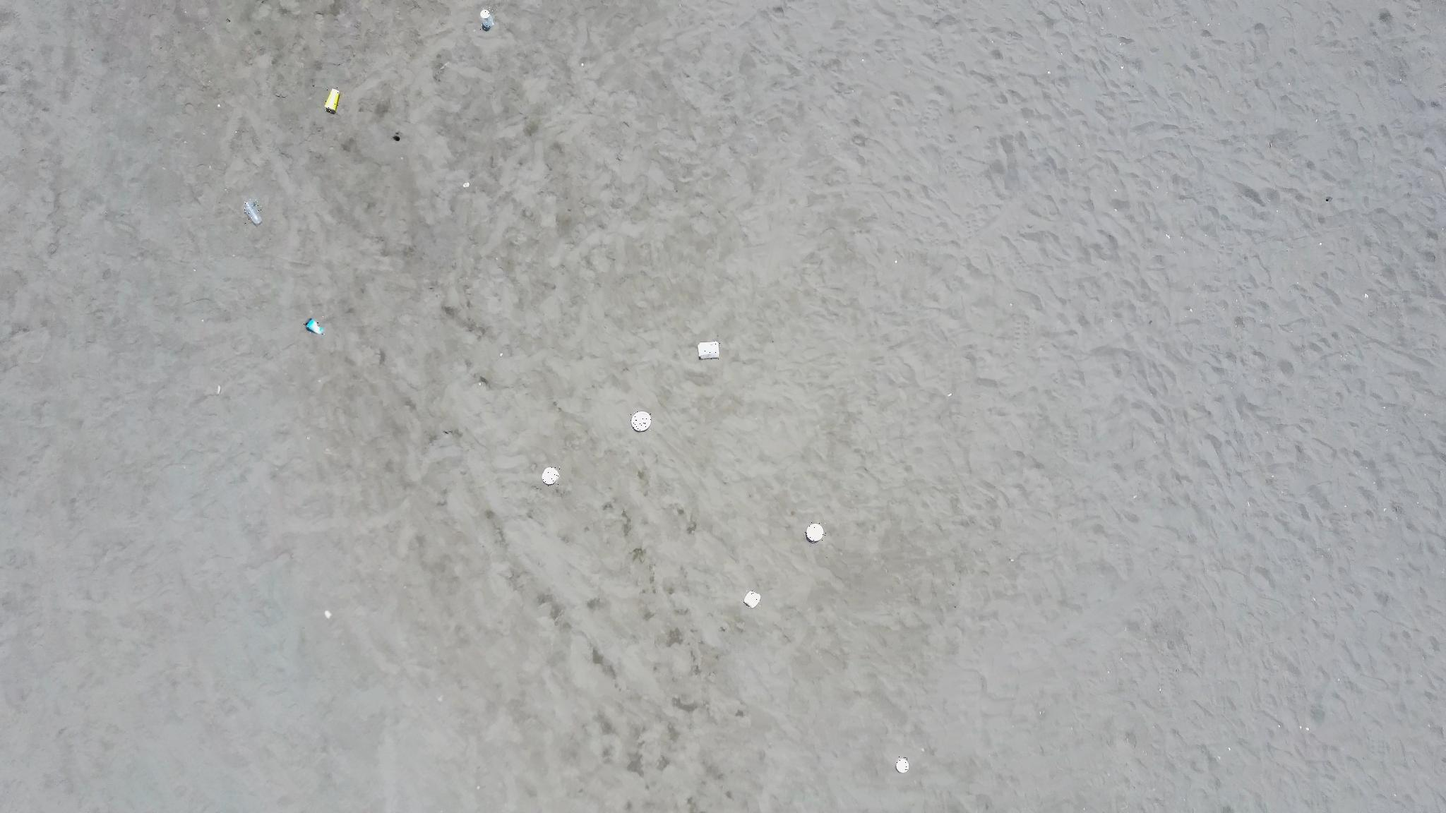Garbage: (631, 411, 651, 432), (244, 200, 261, 224), (697, 340, 719, 356), (541, 466, 559, 485), (325, 89, 339, 113), (806, 523, 823, 542), (743, 589, 760, 608), (305, 318, 323, 335), (481, 9, 494, 30), (895, 757, 908, 772), (323, 610, 330, 618), (462, 181, 469, 187)
